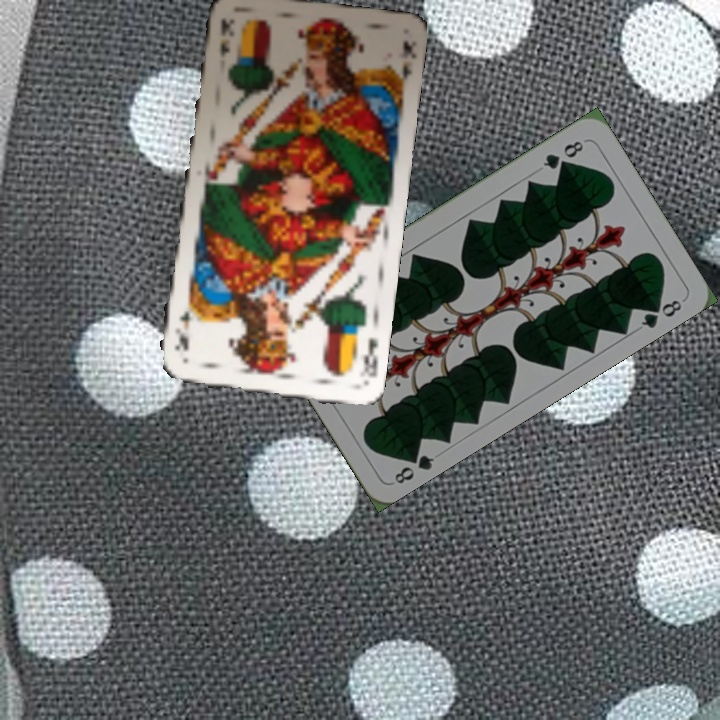EK: (356, 334, 380, 381), (215, 15, 234, 59)
G8: (390, 446, 437, 487), (538, 136, 587, 172)
